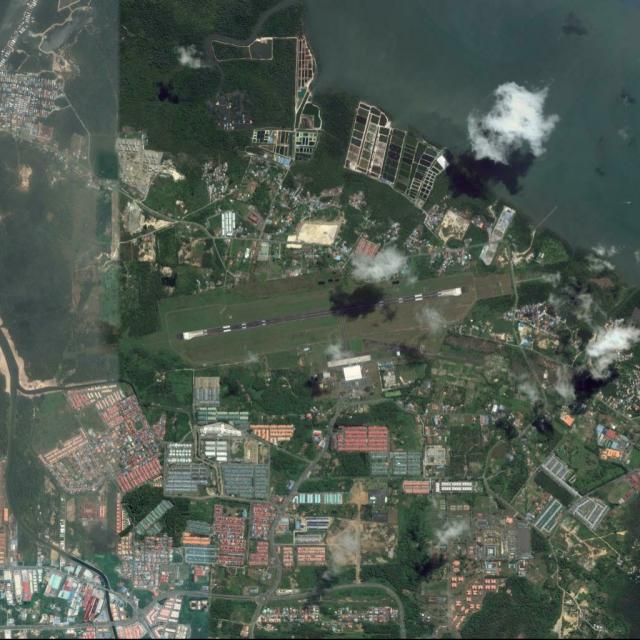storage-tank: (138, 614, 144, 619), (261, 596, 266, 601)
